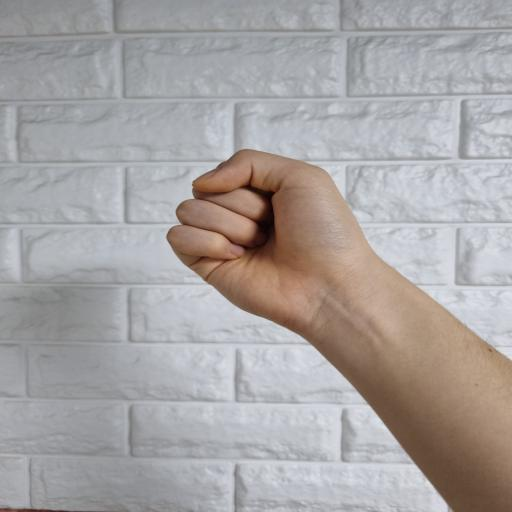Rock: (165, 149, 380, 317)
